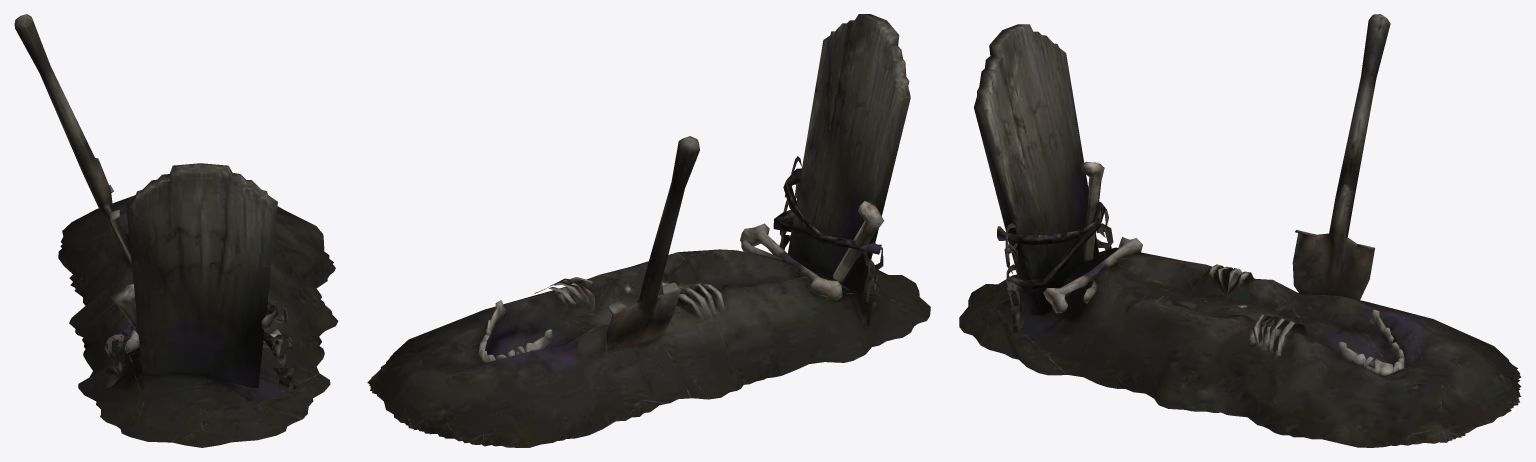
File: prop_node_burial_mound.glb
3 renders of one model, left to right at view 1: azimuth 30°, elevation 25°; view 2: azimuth 150°, elevation 25°; view 3: azimuth 270°, elevation 25°, orthographic. The views are drawn at different scales.
Visible parts, largest first — view 1: tripo_node_da4909e1-220e-4be2-bc88-014121a6408d; view 2: tripo_node_da4909e1-220e-4be2-bc88-014121a6408d; view 3: tripo_node_da4909e1-220e-4be2-bc88-014121a6408d.
Part boxes in pixels (x1,y1,x2,y2): tripo_node_da4909e1-220e-4be2-bc88-014121a6408d: (14, 14, 338, 447); tripo_node_da4909e1-220e-4be2-bc88-014121a6408d: (367, 14, 930, 447); tripo_node_da4909e1-220e-4be2-bc88-014121a6408d: (959, 14, 1521, 447).
Bounding box in the file's own units: 0.748 × 0.5644 × 0.998.
1 material, 1 textured.
